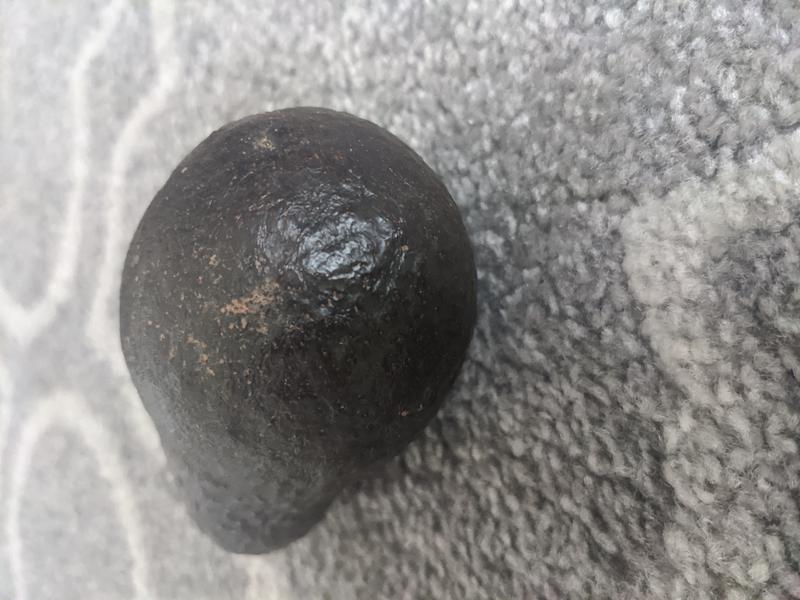avocado: (118, 107, 479, 555)
